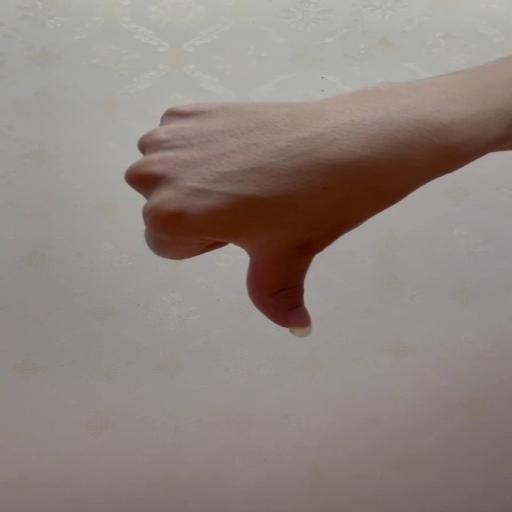thumbs_down: (121, 98, 400, 339)
